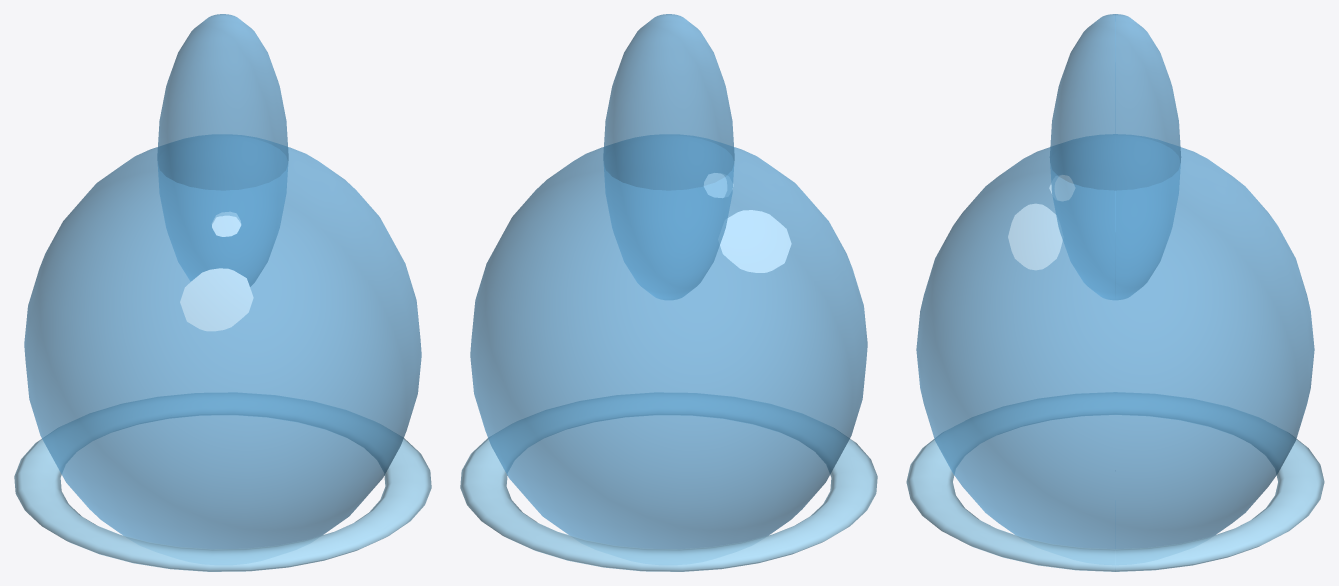
The model's file is sciptbullet.glb.
3 renders of one model, left to right at view 1: azimuth 30°, elevation 25°; view 2: azimuth 150°, elevation 25°; view 3: azimuth 270°, elevation 25°, orthographic.
Parts seen in each view (by area): view 1: Drop_Body, Drop_Tip, Drop_Ripple, Drop_Highlight, Drop_Highlight2; view 2: Drop_Body, Drop_Tip, Drop_Ripple, Drop_Highlight; view 3: Drop_Body, Drop_Tip, Drop_Ripple, Drop_Highlight.
Boxes of the visible parts, left/top/right/bottom form: Drop_Body: left=24, top=135, right=421, bottom=549; Drop_Tip: left=157, top=14, right=288, bottom=286; Drop_Ripple: left=14, top=392, right=431, bottom=571; Drop_Highlight: left=180, top=268, right=253, bottom=331; Drop_Highlight2: left=212, top=212, right=240, bottom=236; Drop_Body: left=470, top=135, right=867, bottom=549; Drop_Tip: left=603, top=14, right=734, bottom=299; Drop_Ripple: left=460, top=392, right=877, bottom=571; Drop_Highlight: left=720, top=210, right=791, bottom=272; Drop_Body: left=916, top=134, right=1314, bottom=549; Drop_Tip: left=1049, top=14, right=1181, bottom=299; Drop_Ripple: left=906, top=392, right=1324, bottom=571; Drop_Highlight: left=1008, top=203, right=1062, bottom=270.
Size of the model in its own units: 0.63 by 0.884 by 0.63.
